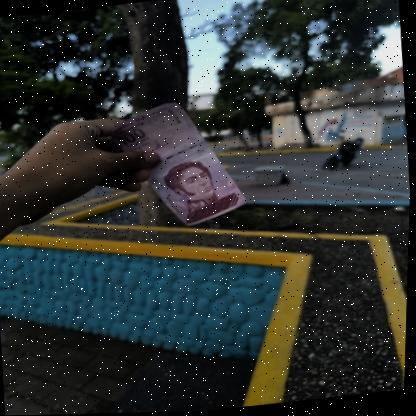one_hundred-front-vef: (103, 95, 253, 235)
